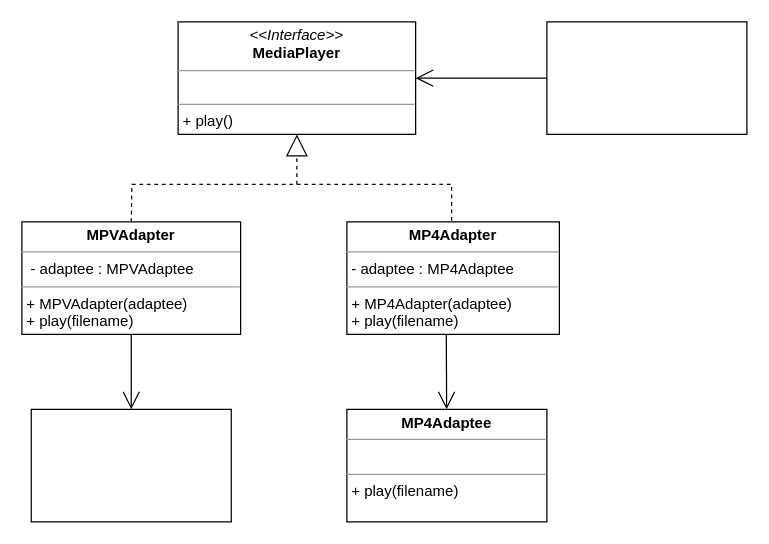
The diagram is 769 pixels wide and 544 high, and some of its shapes have lost their labels. Here are the shapes that lost their labels. From the top down, the centre of each, then its label:
At (646,77): "AdvanceMediaPlayer + play()".
At (130,465): "MPVAdaptee + play(filename)".
